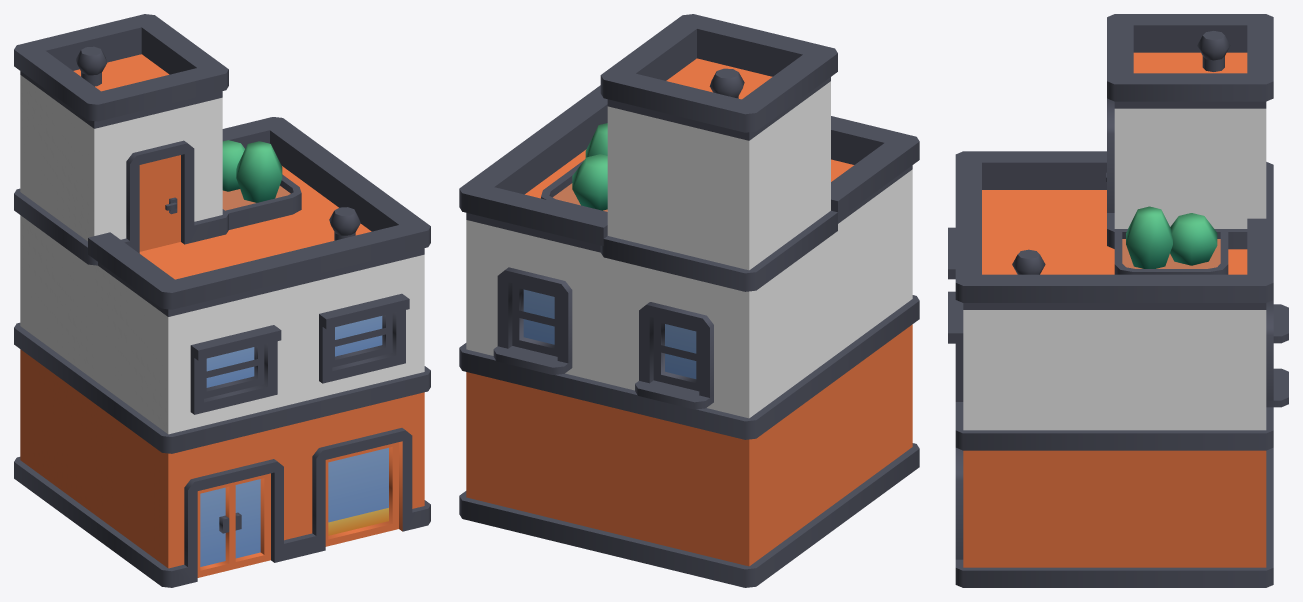
Rendered from shop_level1.glb.
3 views of the same model, side by side, from view 1: azimuth 30°, elevation 25°; view 2: azimuth 150°, elevation 25°; view 3: azimuth 270°, elevation 25° (orthographic). The views are drawn at different scales.
Visible parts, largest first — view 1: building-d; view 2: building-d; view 3: building-d.
Boxes of the visible parts, bbox=[...] form: building-d: bbox=[14, 14, 430, 587]; building-d: bbox=[459, 14, 919, 587]; building-d: bbox=[948, 14, 1288, 587].
Bounding box in the file's own units: 0.84 × 1.29 × 0.9.
1 material, 1 textured.
